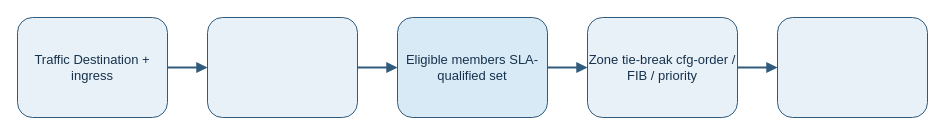
Image size: 945x135. Some labels were removed from this diagram. The shapes that lost their labels are listed below. From the top down, each one's centre as x and y in pixels, then its label:
point (282, 67): Service rule Match and SLA test
point (852, 67): Egress WAN Selected member
